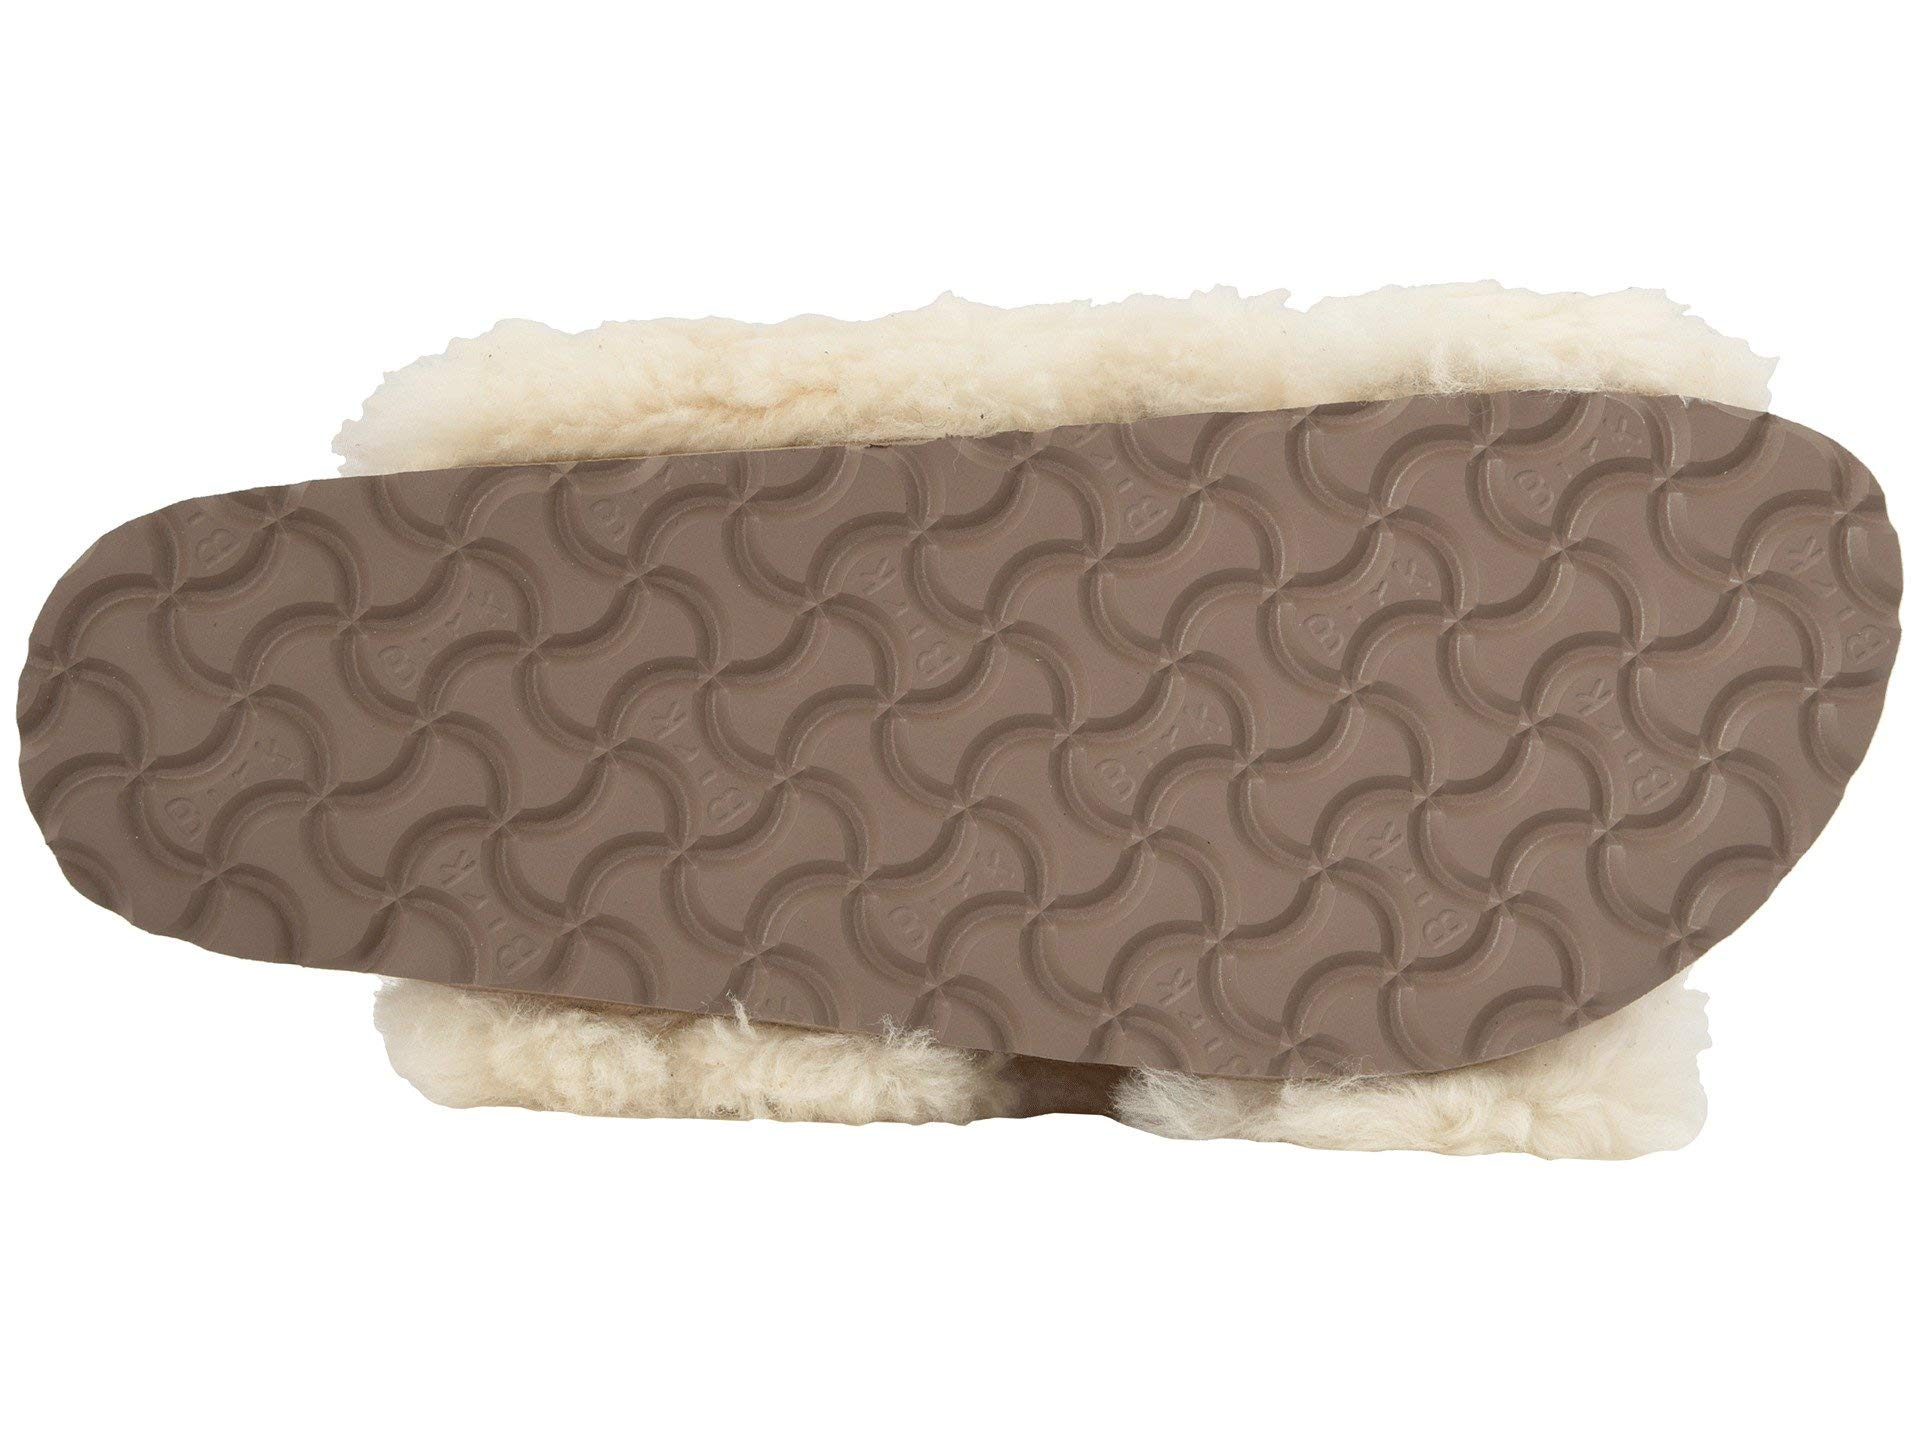bowtie: (711, 498, 1284, 1013), (91, 563, 658, 947), (1352, 472, 1737, 909)
text: (711, 498, 1284, 1013), (91, 563, 658, 947), (1352, 472, 1737, 909)
